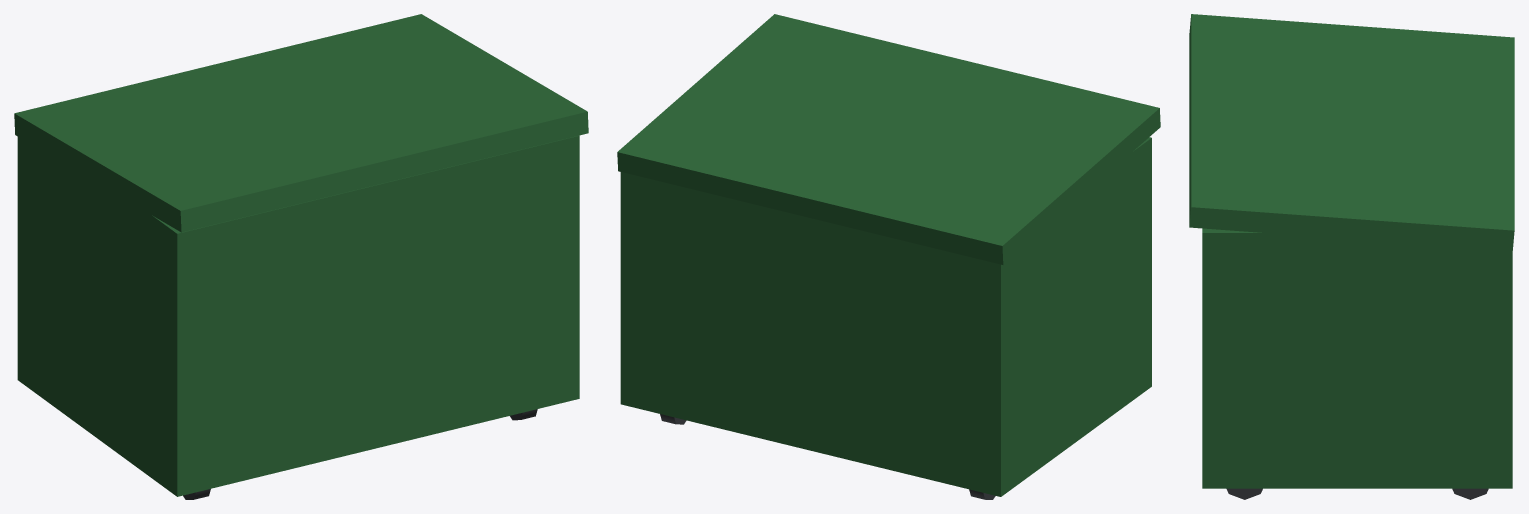
File: dumpster_frog.glb
The picture shows the model from 3 angles, left to right: view 1: azimuth 30°, elevation 25°; view 2: azimuth 150°, elevation 25°; view 3: azimuth 270°, elevation 25°; orthographic projection. The views are drawn at different scales.
Parts seen in each view (by area): view 1: bin; view 2: bin; view 3: bin.
Part boxes in pixels (x1,y1,x2,y2): bin: (14, 14, 588, 499); bin: (617, 14, 1160, 499); bin: (1189, 14, 1514, 499).
Size of the model in its own units: 1.62 by 1.21 by 1.15.
